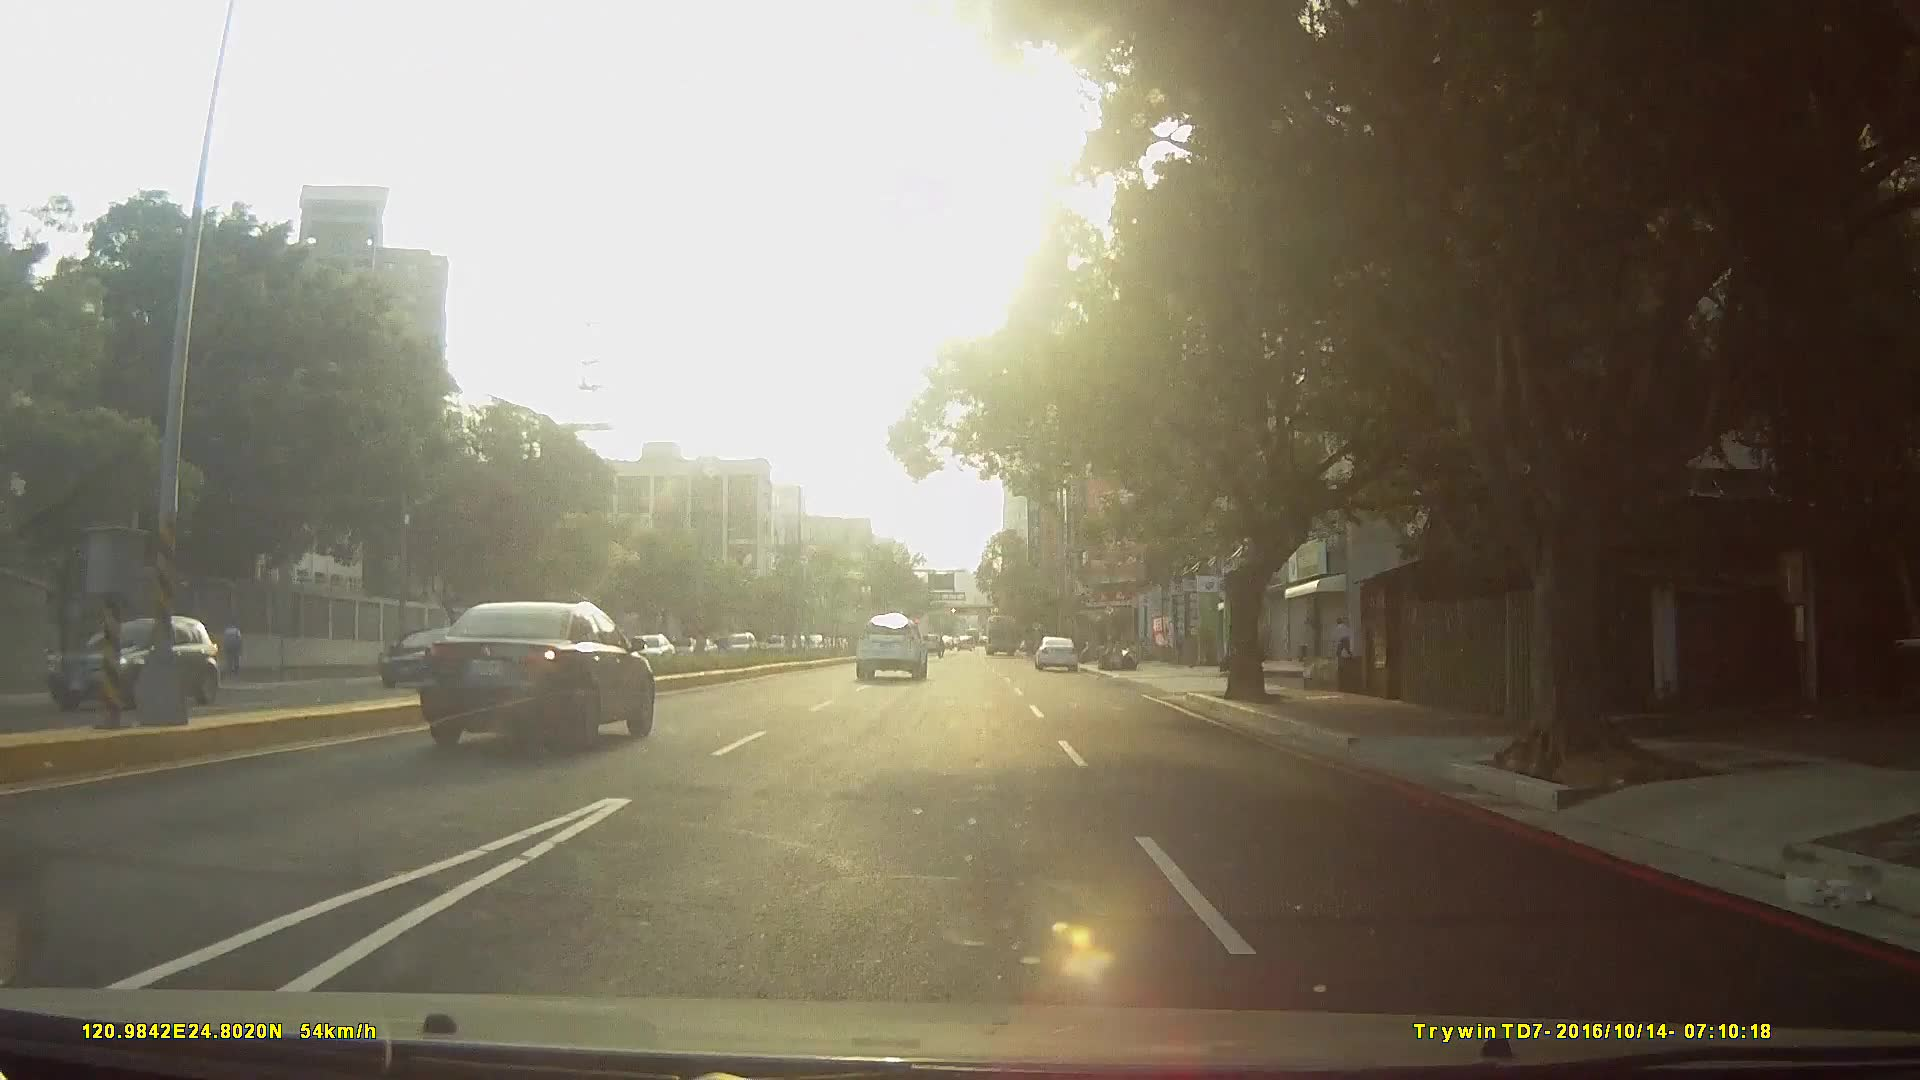pedestrian: (221, 616, 250, 673), (1336, 618, 1356, 662)
vehicle: (421, 598, 658, 754), (44, 609, 231, 723), (366, 623, 490, 691), (854, 609, 930, 680), (1033, 631, 1080, 671), (982, 609, 1020, 653)
